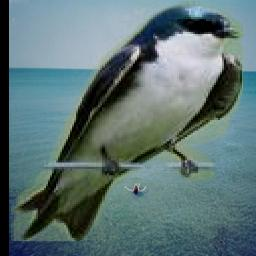Swallow: (11, 1, 243, 241)
